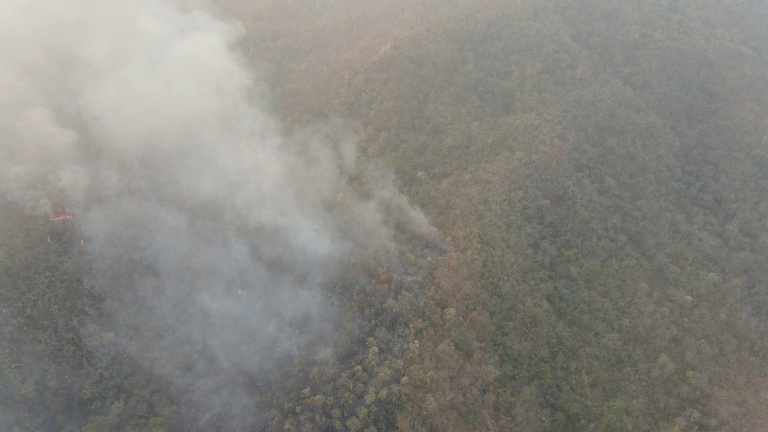fire: (40, 211, 79, 244), (430, 246, 465, 282)
smoke: (1, 1, 476, 432)
